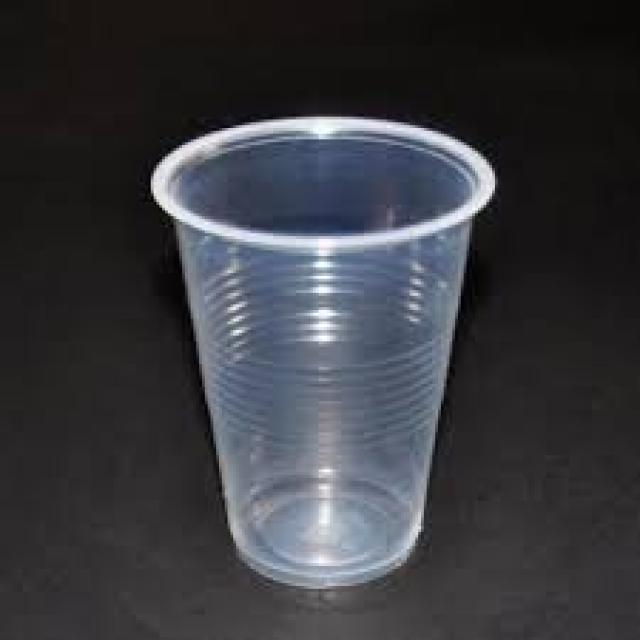Plastico descartable: (151, 118, 495, 588)
